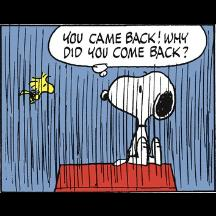snoopy: (100, 69, 176, 167)
